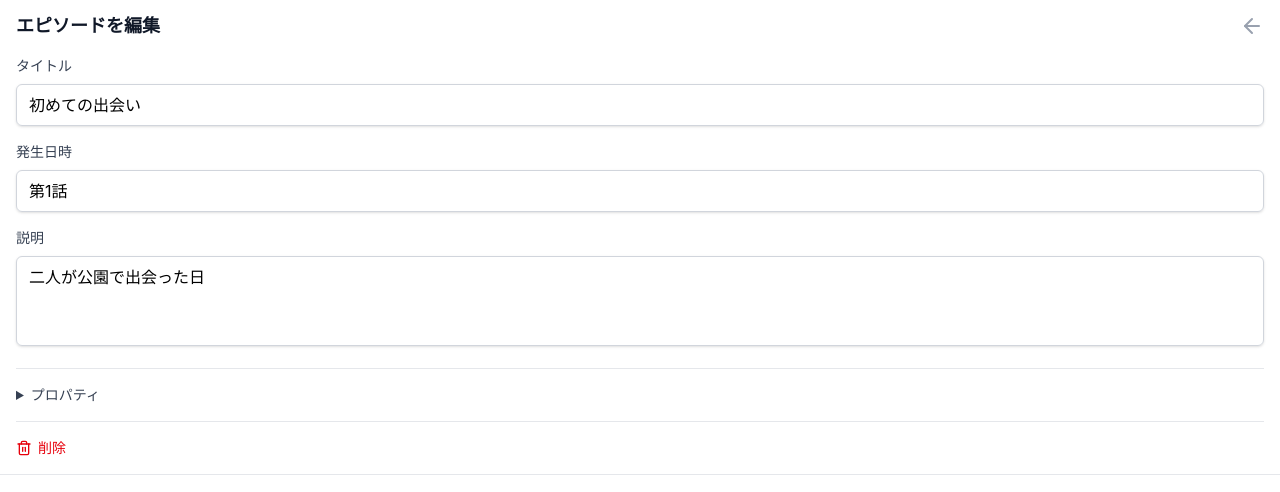
Test: EpisodeEditForm › タイトル保存 › 空のタイトルでblurしても保存されず元の値に戻る
Clear the field labelled "タイトル" at {"x": 640, "y": 105}, box left=16, top=84, right=1264, bottom=126
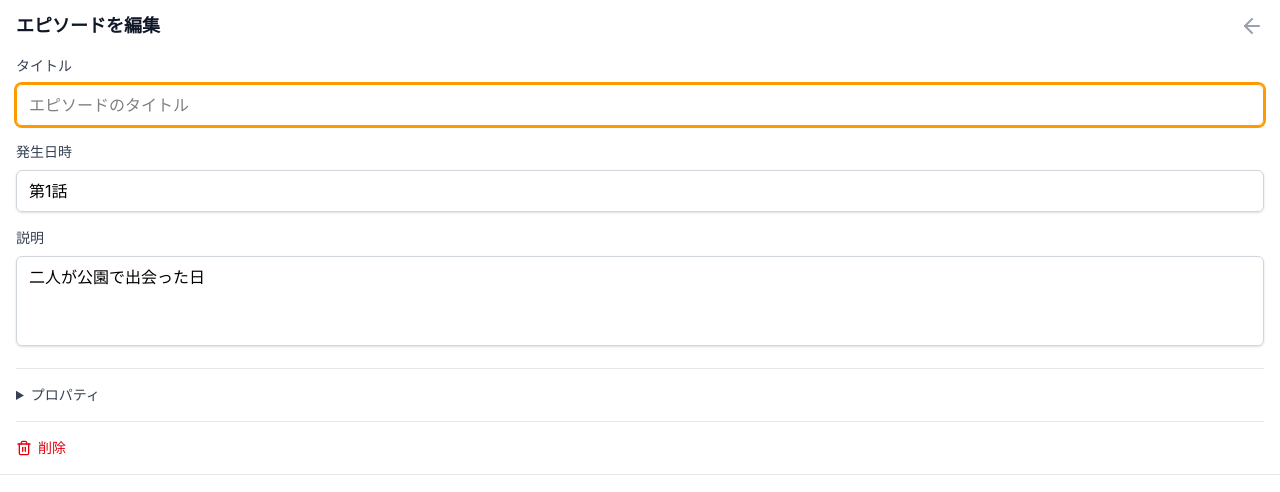
Leave the field labelled "タイトル", box left=16, top=84, right=1264, bottom=126
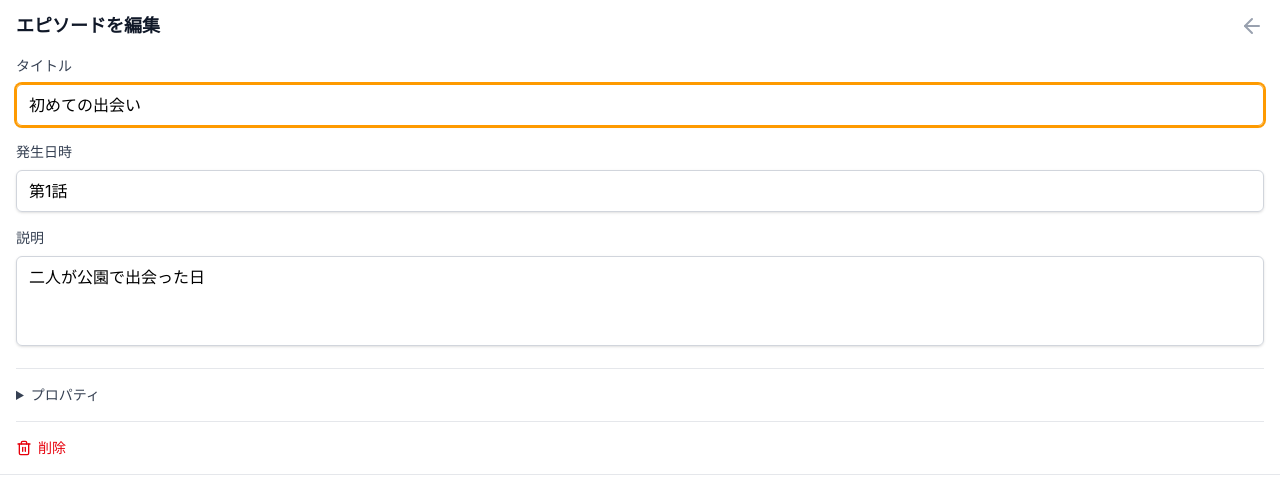
Check: the field labelled "タイトル" holds "初めての出会い", box left=16, top=84, right=1264, bottom=126
